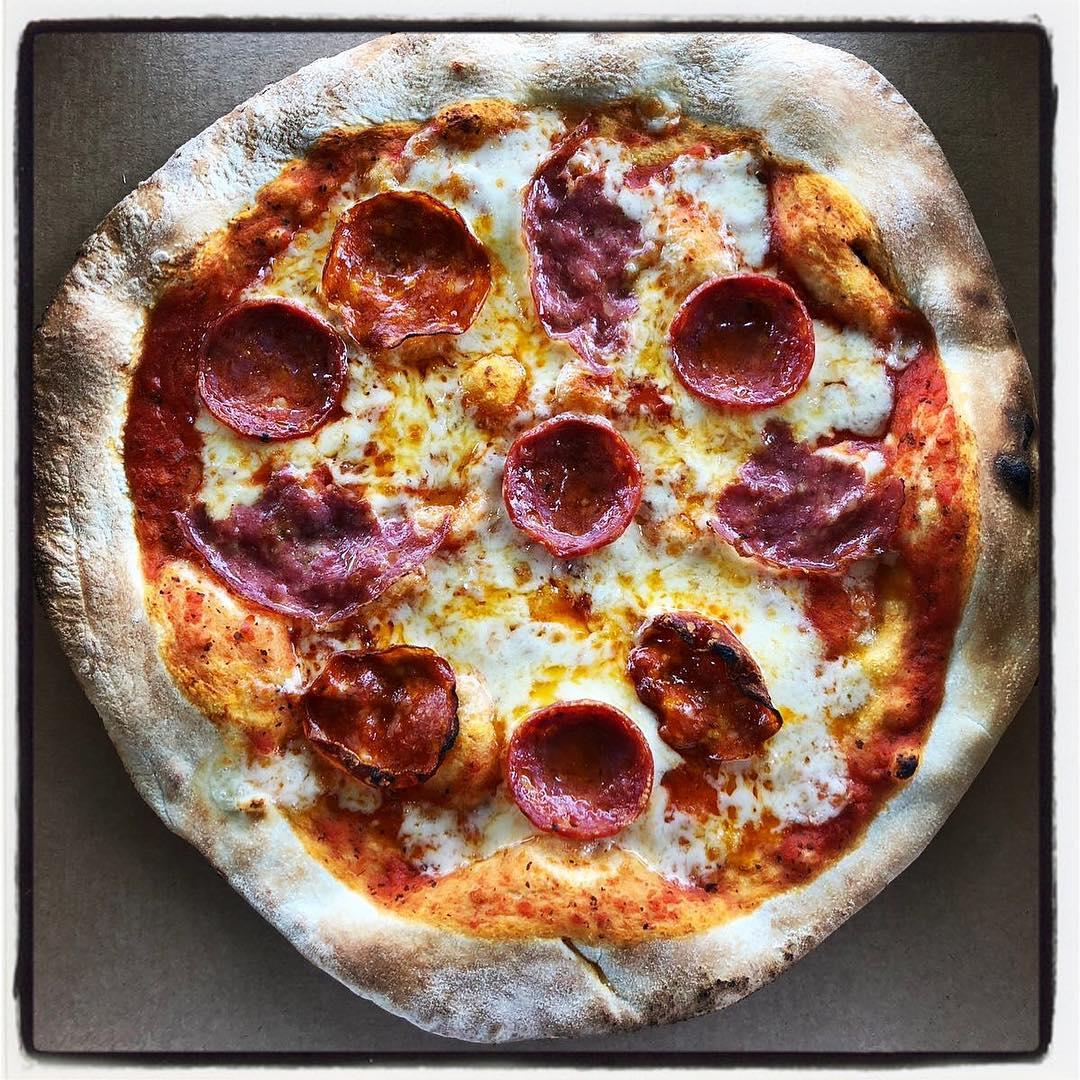Ham: (164, 464, 456, 630), (695, 413, 915, 584), (521, 113, 671, 351)
Pepperoni: (321, 189, 500, 354), (293, 638, 467, 798), (624, 599, 784, 770), (189, 296, 352, 450), (503, 690, 662, 846), (669, 265, 819, 412), (500, 408, 644, 560)
Pizza: (32, 30, 1037, 1045)
